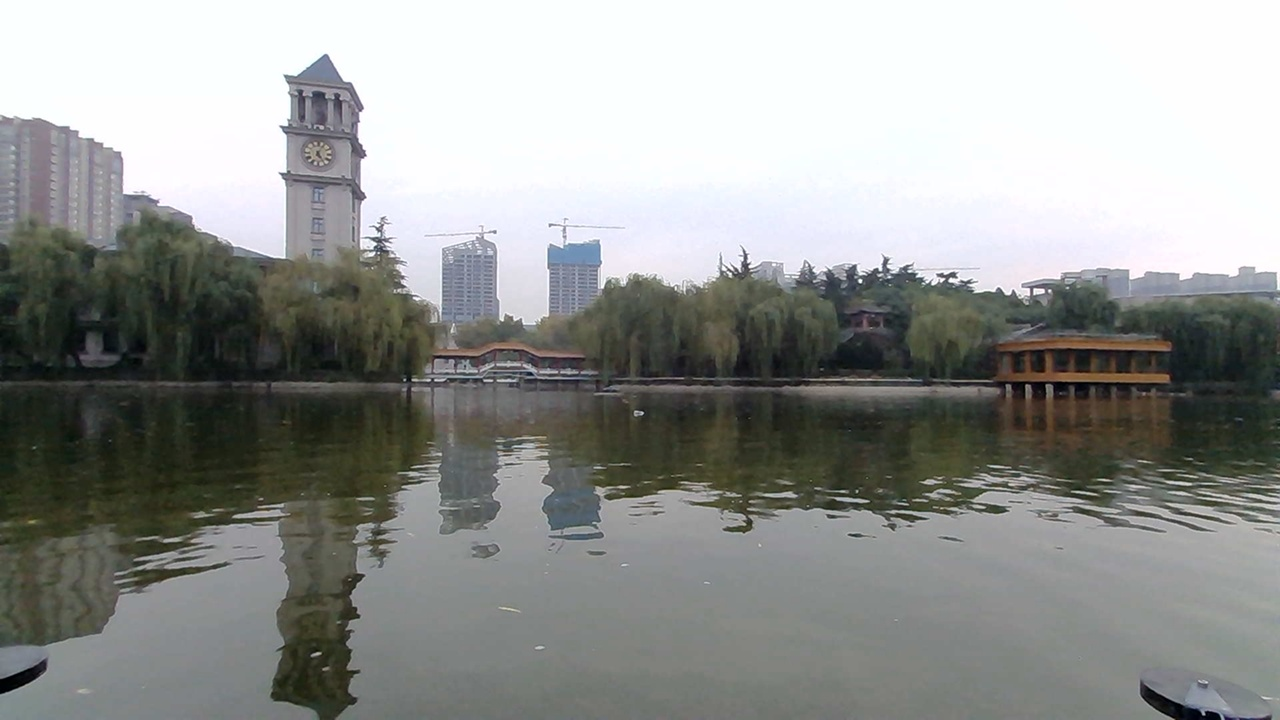bottle: (618, 402, 664, 426)
